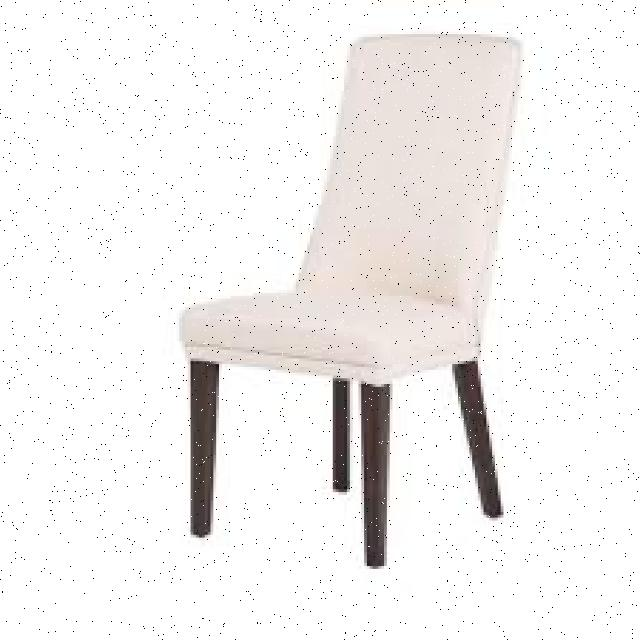bottle: (180, 33, 524, 575)
